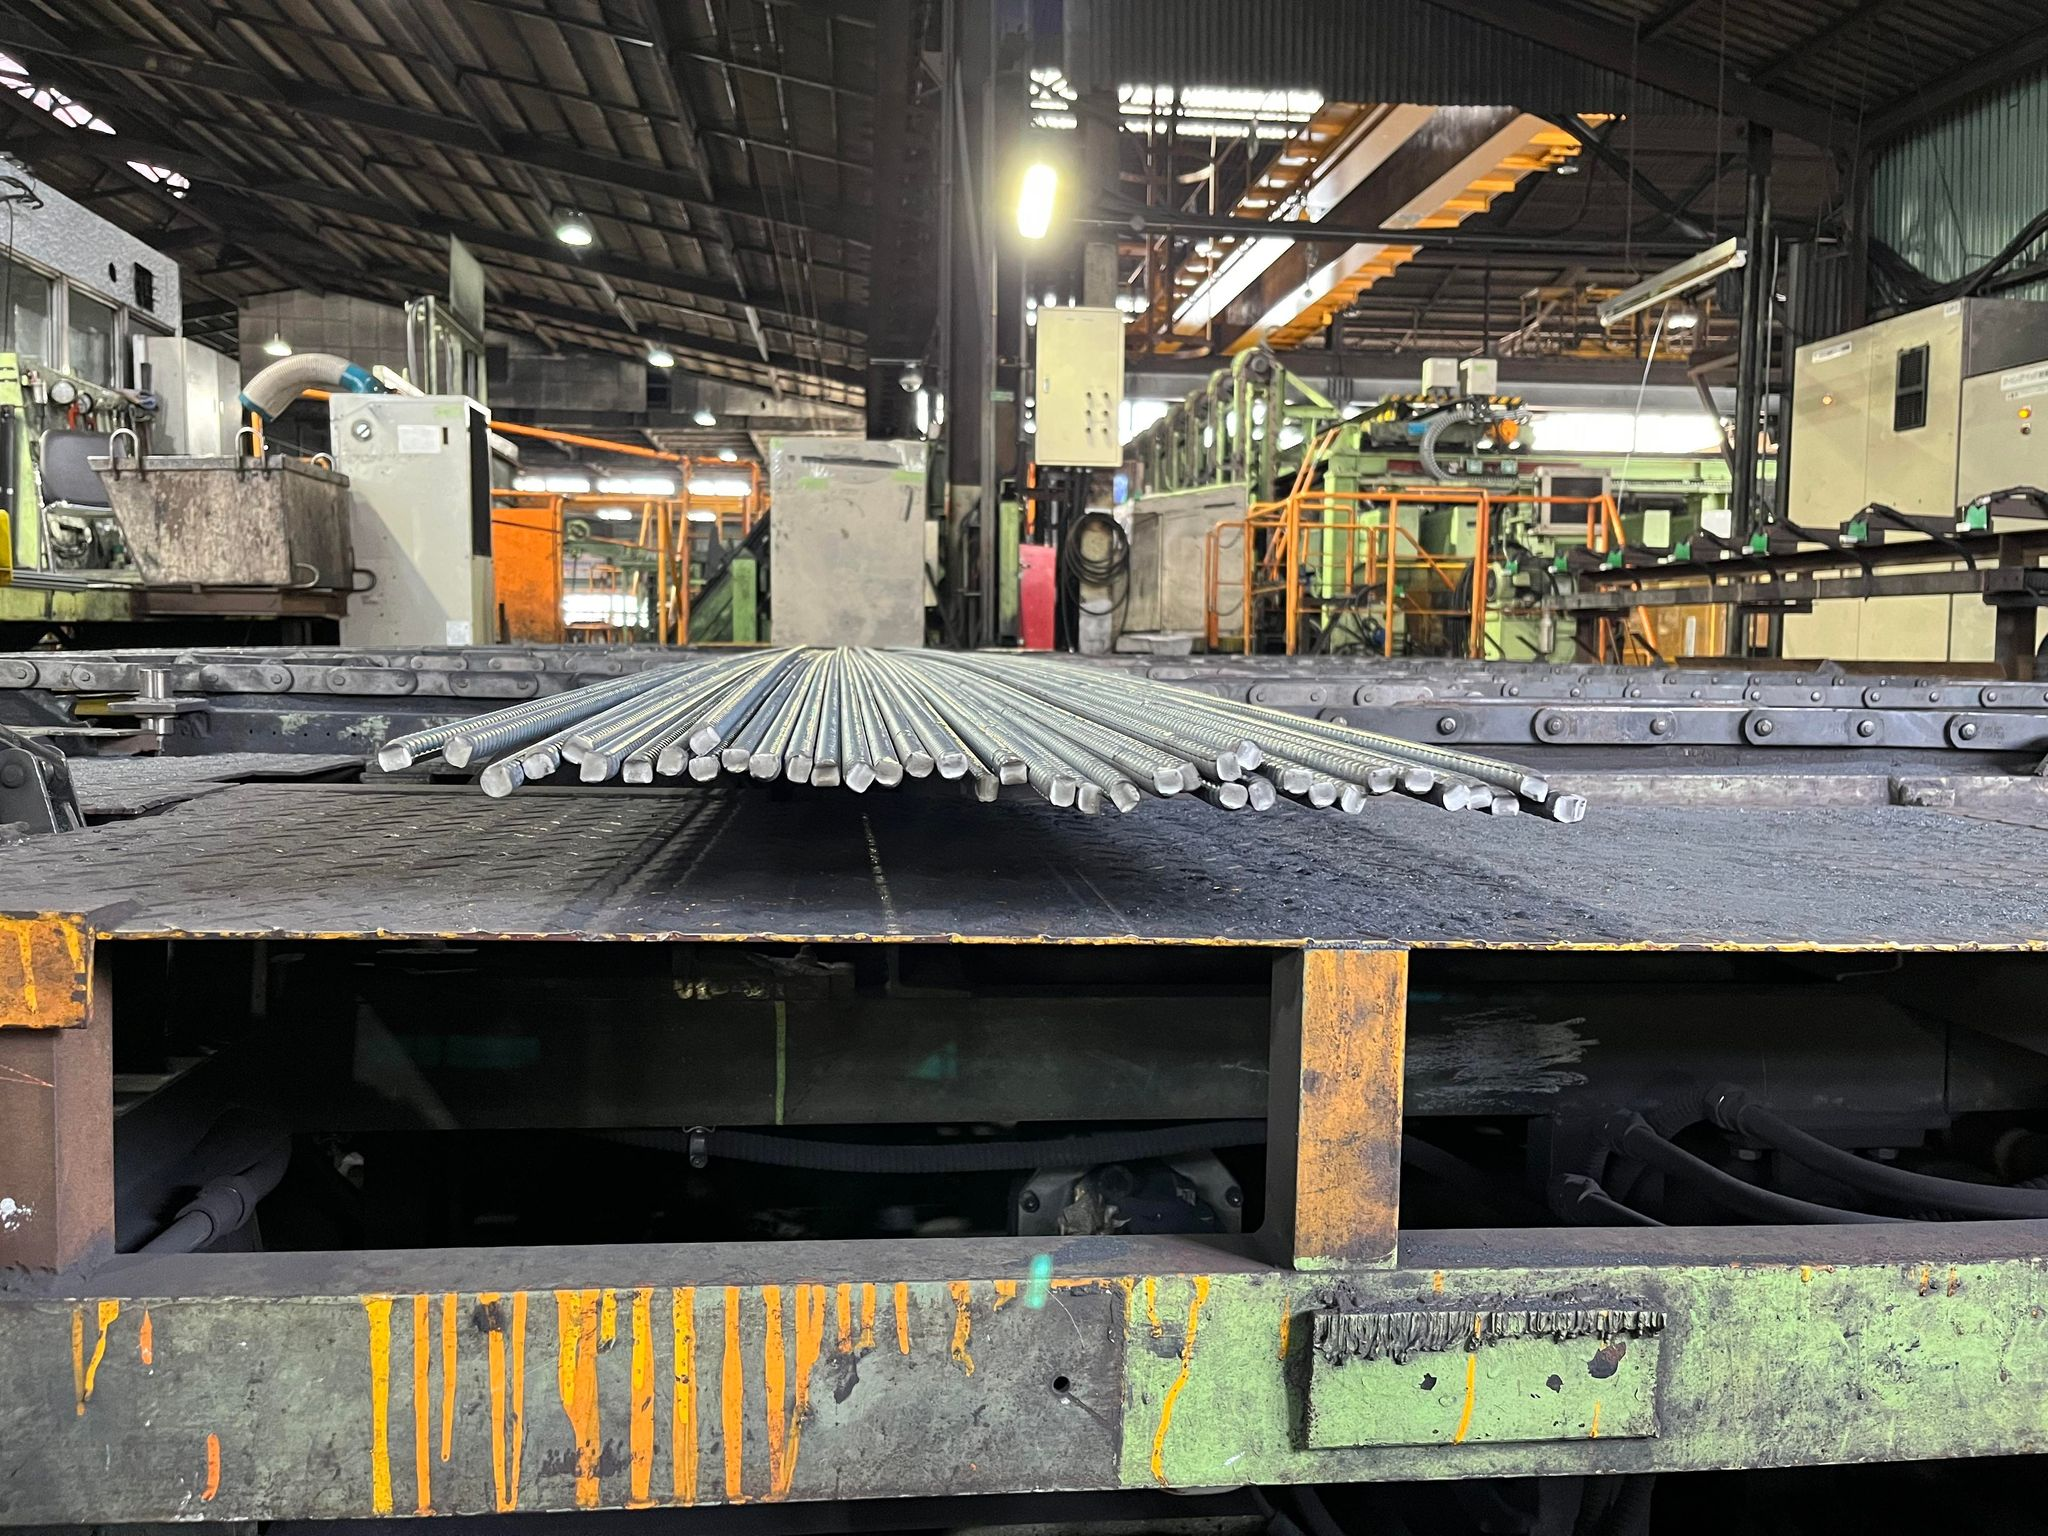rod: (374, 741, 418, 774), (479, 762, 516, 799), (1550, 791, 1590, 824), (440, 733, 476, 770), (577, 749, 613, 783), (521, 749, 558, 781), (560, 733, 597, 765), (1109, 779, 1142, 816), (1517, 770, 1551, 803), (655, 745, 690, 778), (843, 758, 876, 794), (1338, 781, 1371, 816), (685, 724, 722, 755), (621, 753, 655, 786), (810, 757, 842, 791), (935, 747, 969, 779), (1151, 765, 1184, 799), (1280, 765, 1316, 795), (1076, 779, 1105, 816), (1248, 779, 1279, 813), (1234, 737, 1264, 771), (1306, 779, 1340, 810), (685, 755, 722, 783), (903, 749, 935, 779), (998, 755, 1029, 787), (1440, 781, 1471, 813), (1488, 791, 1521, 821), (876, 753, 905, 787), (1047, 774, 1076, 808), (1401, 766, 1435, 795), (748, 752, 784, 779), (1216, 783, 1250, 810), (1464, 783, 1492, 816), (719, 745, 750, 774), (1366, 766, 1397, 795), (785, 752, 813, 784), (974, 771, 1001, 803), (1214, 750, 1242, 783), (1180, 758, 1201, 792)
